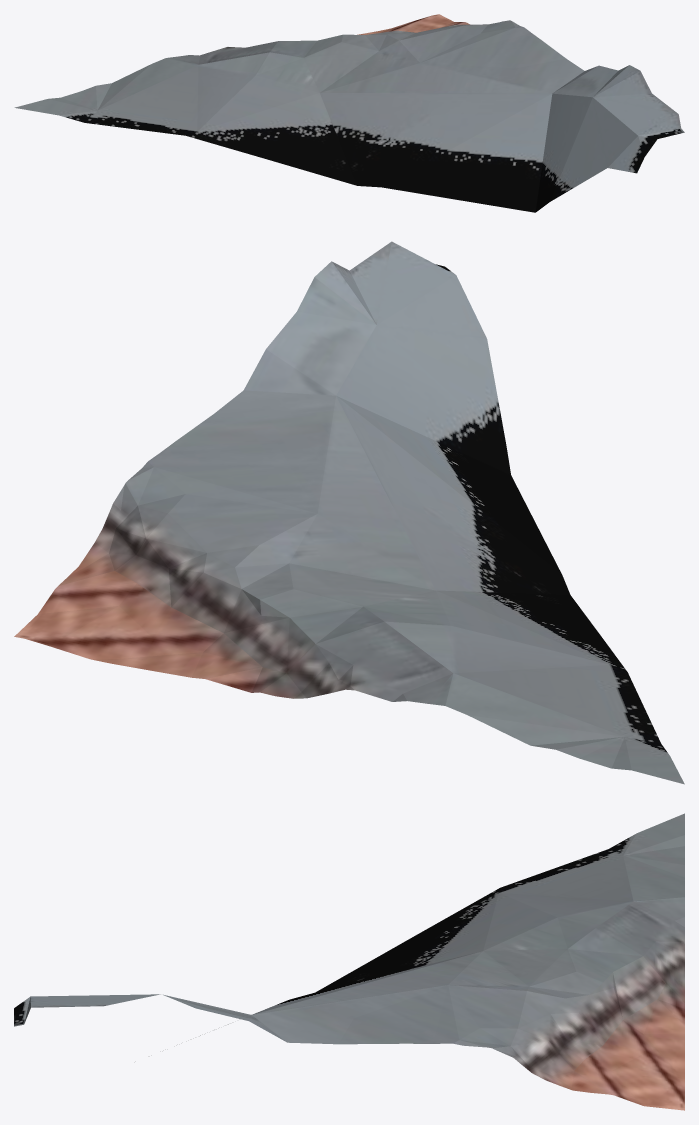
The picture shows the model from 3 angles, top to bottom: view 1: azimuth 30°, elevation 25°; view 2: azimuth 150°, elevation 25°; view 3: azimuth 270°, elevation 25°; orthographic projection. The views are drawn at different scales.
Size of the model in its own units: 3.35 by 0.8431 by 3.35.
2 materials, 2 textured.
